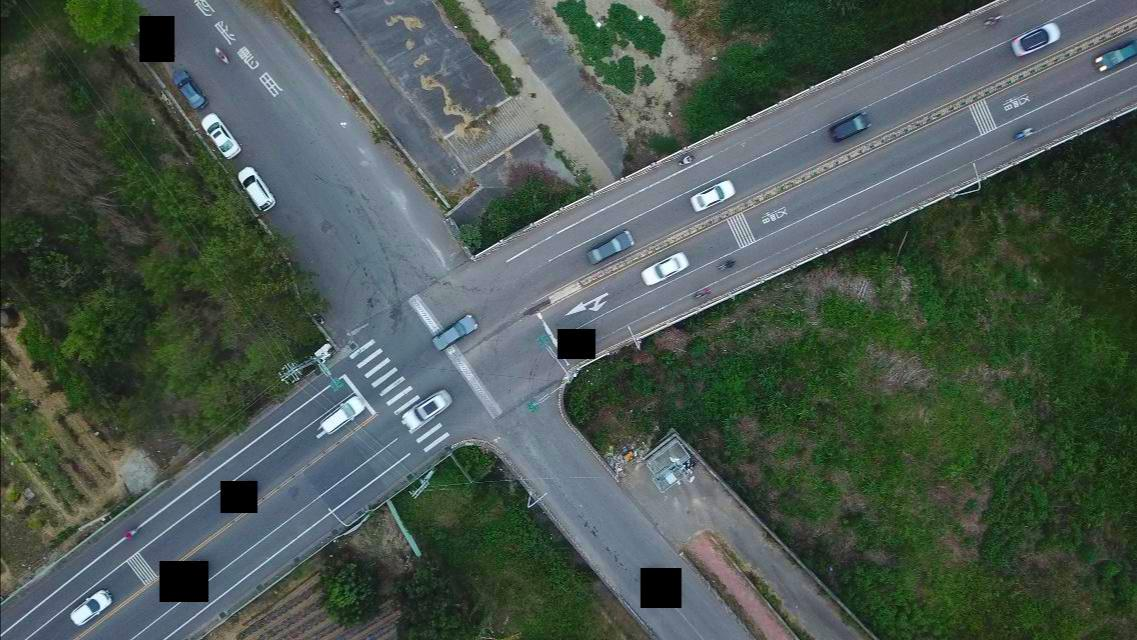vehicle: (401, 387, 451, 430), (318, 394, 367, 435), (429, 313, 479, 353), (199, 112, 239, 161), (236, 166, 276, 214), (1009, 23, 1062, 59), (689, 176, 735, 214), (66, 589, 111, 627), (640, 252, 688, 286), (170, 68, 207, 112), (1089, 40, 1136, 74), (585, 231, 633, 264), (827, 109, 872, 144)
